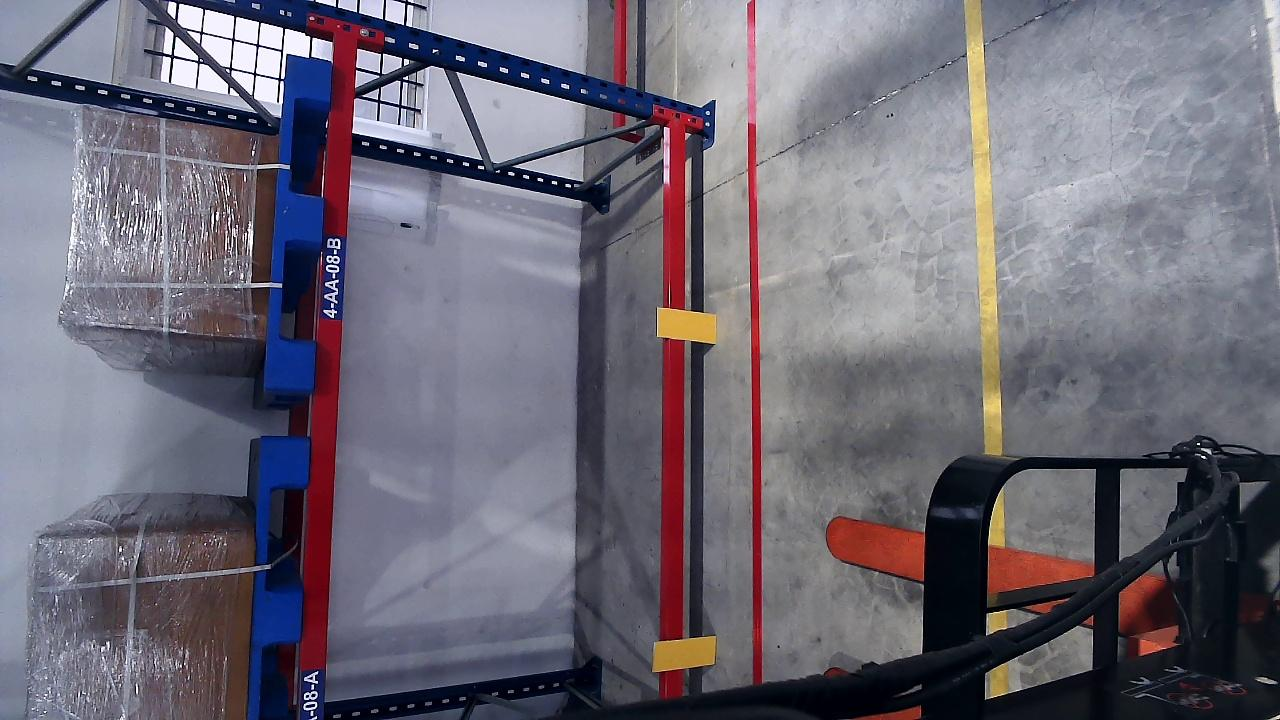h_rack: (291, 29, 359, 719), (660, 122, 695, 697)
orange_strip: (653, 635, 716, 671), (655, 307, 717, 342)
red_line: (742, 2, 764, 682)
small_pallet: (267, 53, 329, 388), (251, 437, 311, 720)
yellow_line: (964, 2, 1004, 699)
